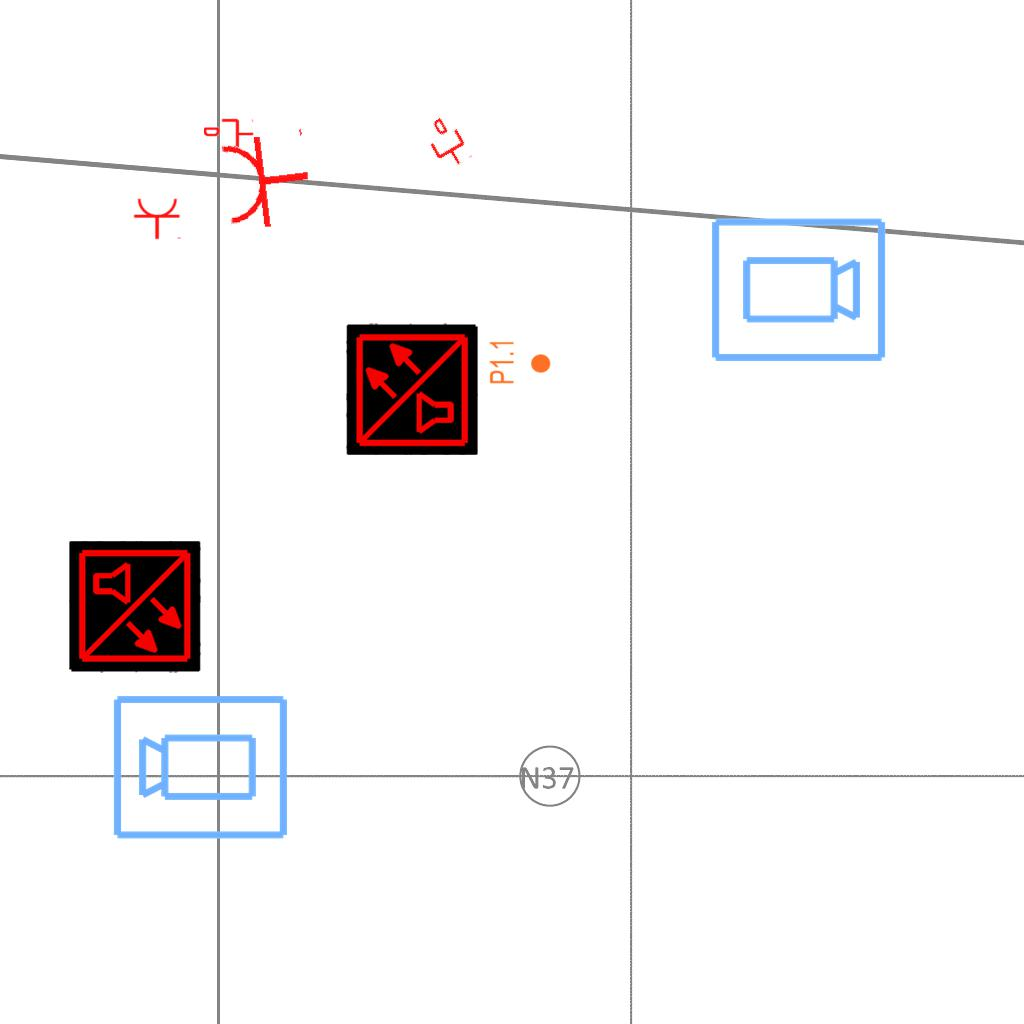Datenanschluss_einfach: (419, 112, 475, 174), (204, 117, 254, 151)
Downlight_LED_Einbauleuchten_Flur: (488, 339, 552, 385)
KFO_Kamera_mit_Festobjektiv: (707, 214, 889, 368), (110, 689, 292, 843)
OKW_Multisensormelder_(Kombination_optischer_Rauch-Kahlenmonoxid_Waerme-Melder): (69, 541, 201, 673), (346, 323, 478, 455)
Schukosteckdose_einfach: (217, 124, 316, 234), (133, 197, 183, 240)
